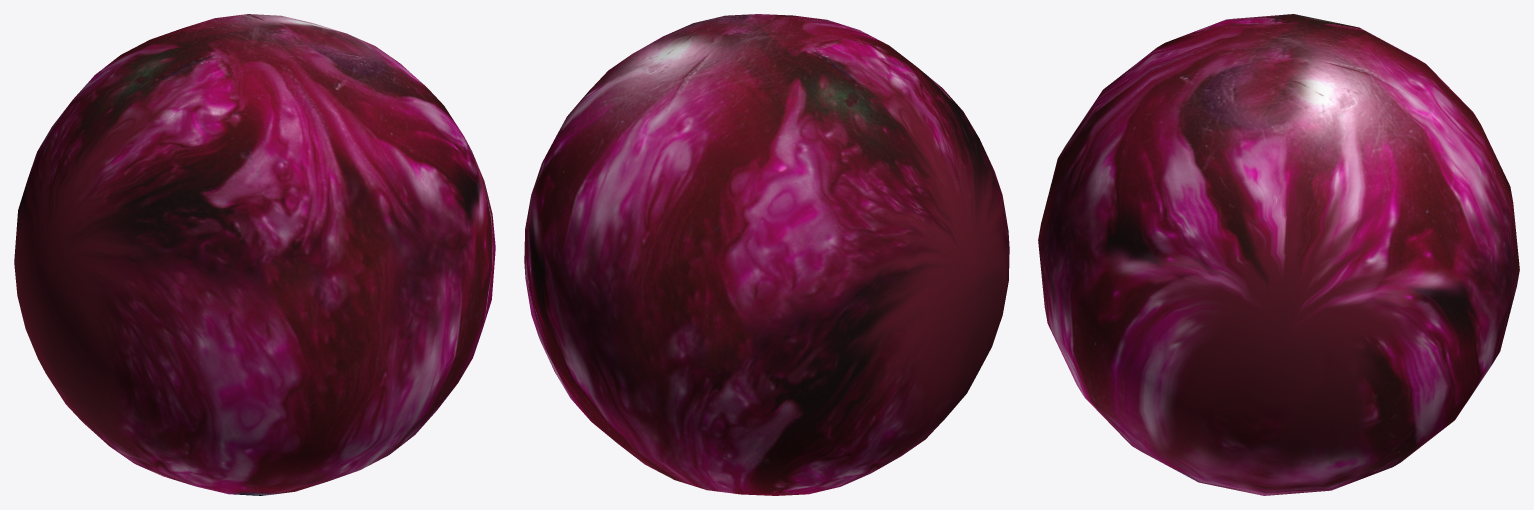
The model's file is BowBall.fbx.
The picture shows the model from 3 angles, left to right: view 1: azimuth 30°, elevation 25°; view 2: azimuth 150°, elevation 25°; view 3: azimuth 270°, elevation 25°; orthographic projection.
Visible parts, largest first — view 1: BowBall; view 2: BowBall; view 3: BowBall.
Part boxes in pixels (bbox=[...]): BowBall: bbox=[14, 14, 495, 495]; BowBall: bbox=[524, 14, 1009, 495]; BowBall: bbox=[1038, 14, 1519, 495].
Size of the model in its own units: 4.31 by 4.3 by 4.31.
Materials: 1 (1 with a texture image).
